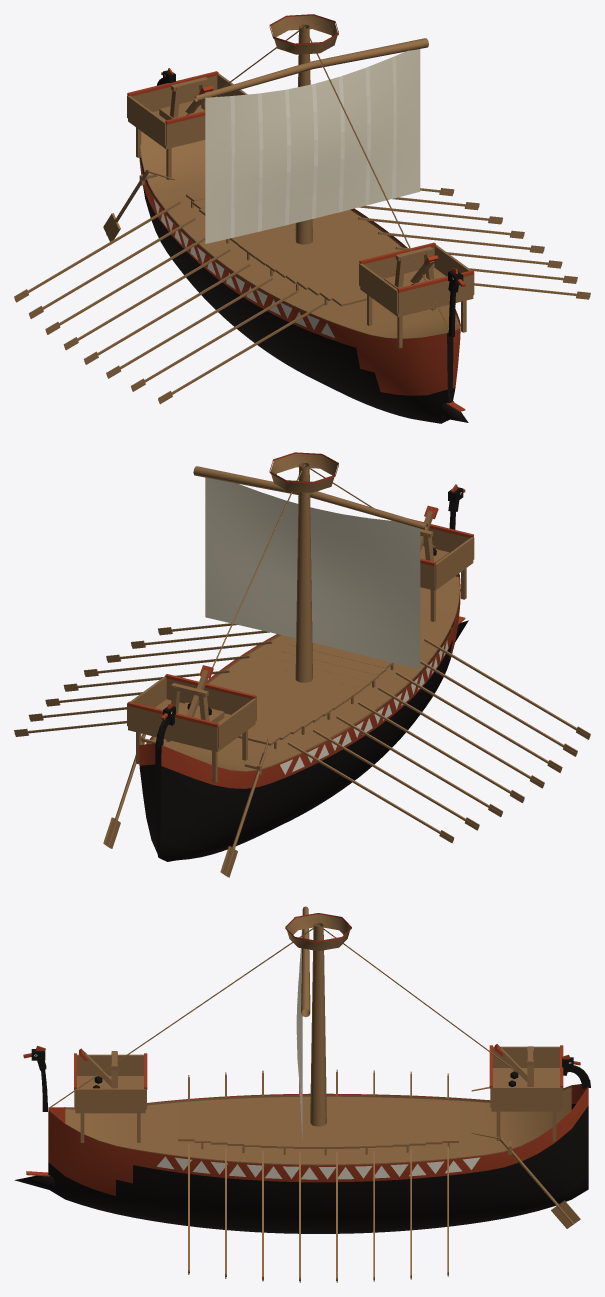
File: ship_bomber_blockout_LOD0.obj
3 renders of one model, top to bottom at view 1: azimuth 30°, elevation 25°; view 2: azimuth 150°, elevation 25°; view 3: azimuth 270°, elevation 25°, orthographic. The views are drawn at different scales.
Parts seen in each view (by area): view 1: ship_bomber_blockout_LOD0; view 2: ship_bomber_blockout_LOD0; view 3: ship_bomber_blockout_LOD0.
Boxes of the visible parts, box(x1,y1,x2,y2) form: ship_bomber_blockout_LOD0: box(14, 14, 590, 423); ship_bomber_blockout_LOD0: box(14, 452, 590, 877); ship_bomber_blockout_LOD0: box(14, 906, 590, 1282).
Size of the model in its own units: 23.99 by 16.2 by 28.12.
